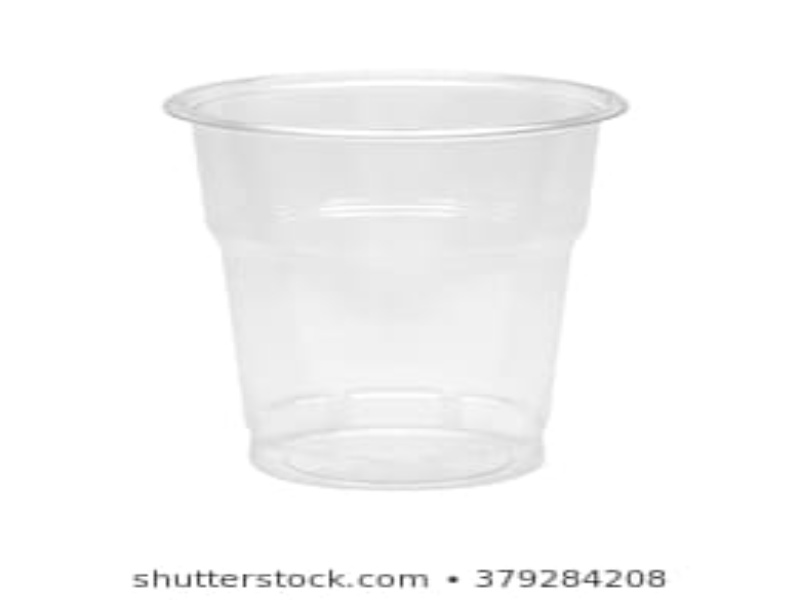plastic-cup: (154, 66, 636, 493)
